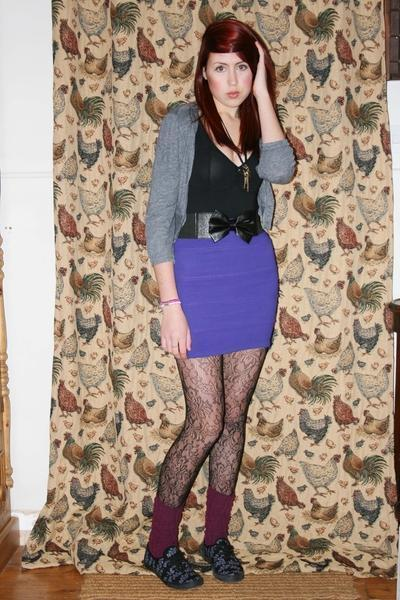jacket: (132, 94, 294, 266)
shirt: (187, 134, 263, 223)
shoe: (138, 536, 248, 590)
skirt: (171, 228, 283, 358)
